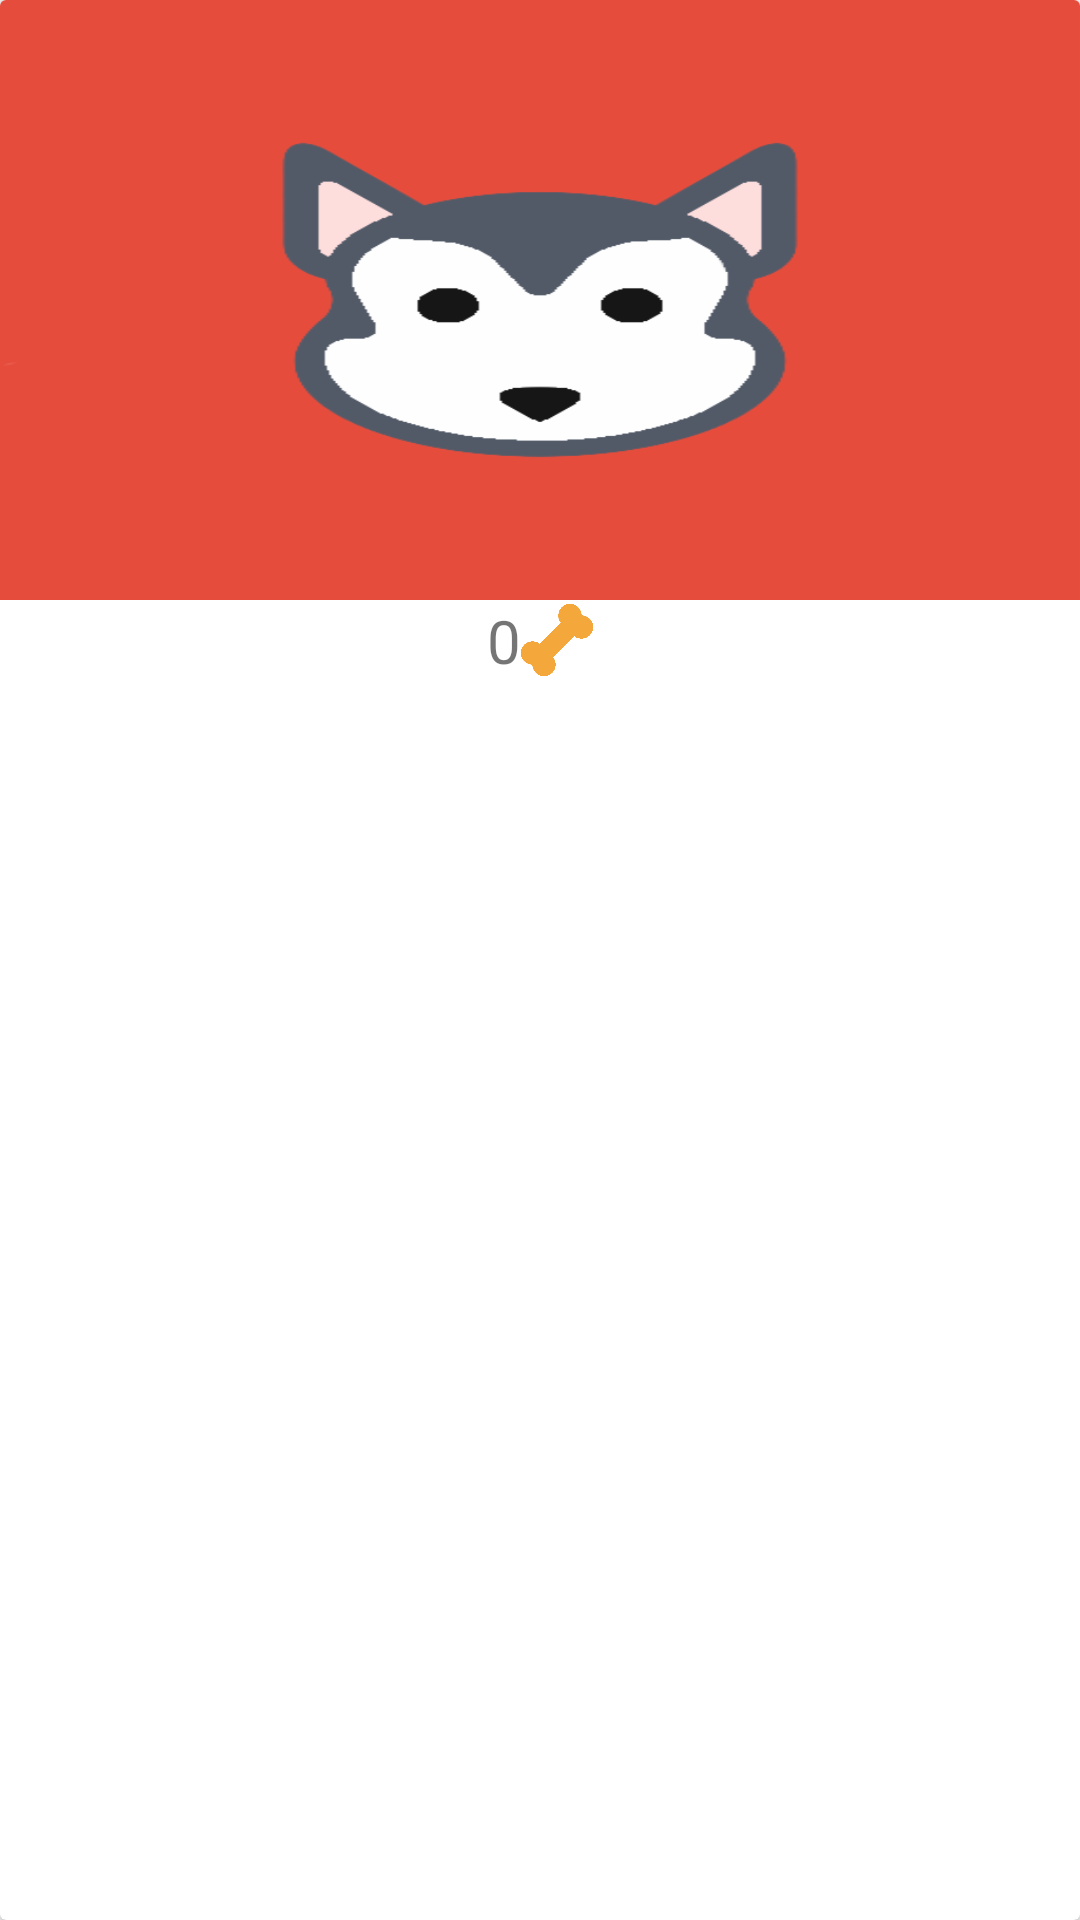

Where icons sit on this 1080×1920 app screen, as (x1, y1, x2, y2):
hueso amarillo: (521, 604, 593, 676)
